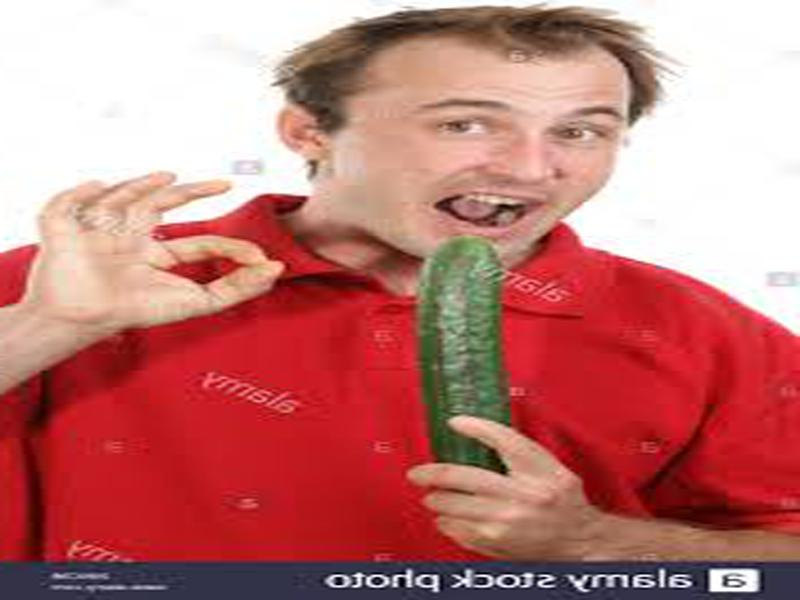Cucumber: (428, 238, 501, 469)
